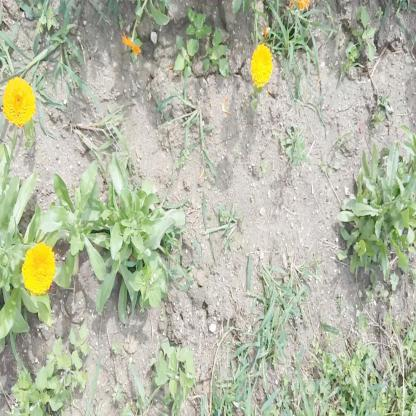marigold: (22, 246, 53, 295), (2, 79, 32, 123), (250, 44, 274, 85)
